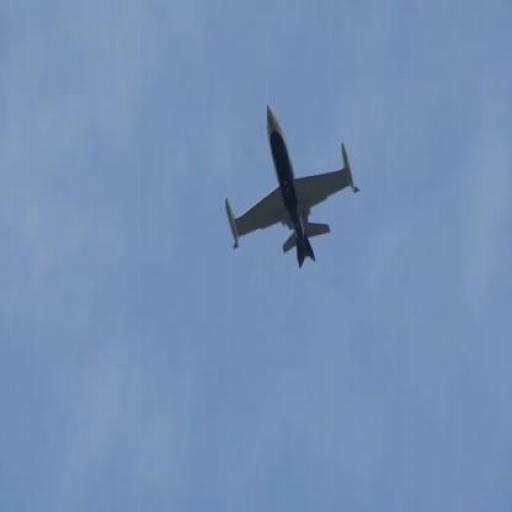aircraft: (220, 103, 366, 271)
